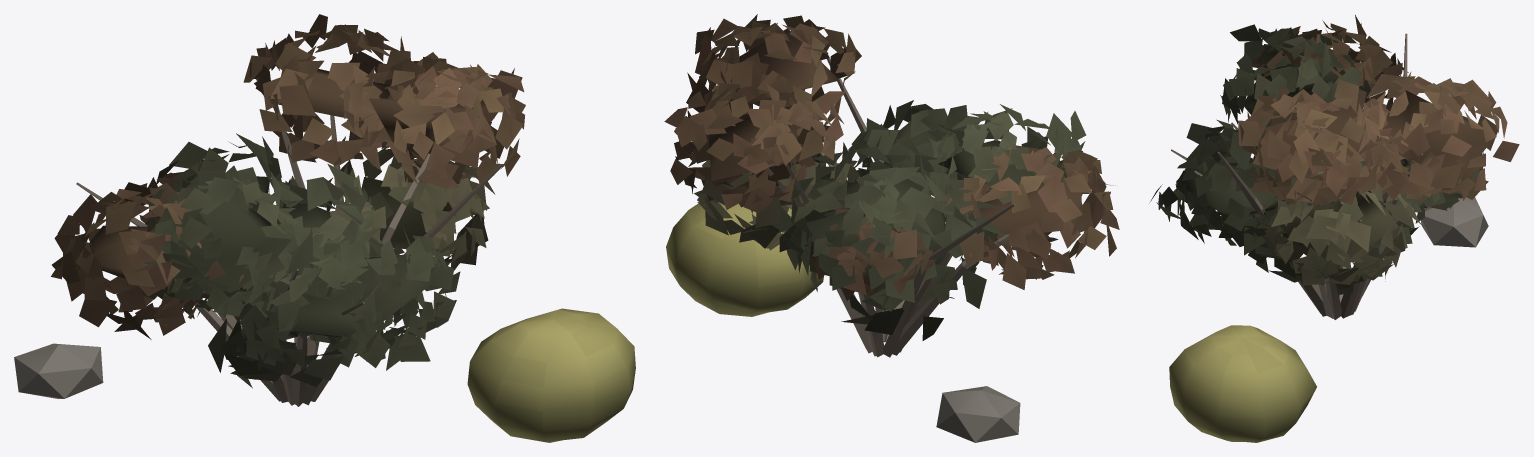
File: matorral_barda_b.glb
The picture shows the model from 3 angles, left to right: view 1: azimuth 30°, elevation 25°; view 2: azimuth 150°, elevation 25°; view 3: azimuth 270°, elevation 25°; orthographic projection. The views are drawn at different scales.
Parts seen in each view (by area): view 1: MatorralBardaBHojas, MatorralBardaB, MatorralBardaBCopa; view 2: MatorralBardaBHojas, MatorralBardaB, MatorralBardaBCopa; view 3: MatorralBardaBHojas, MatorralBardaB, MatorralBardaBCopa.
Boxes of the visible parts, bbox=[...] form: MatorralBardaBHojas: bbox=[51, 14, 525, 388]; MatorralBardaB: bbox=[14, 103, 635, 442]; MatorralBardaBCopa: bbox=[75, 69, 484, 339]; MatorralBardaBHojas: bbox=[664, 14, 1119, 340]; MatorralBardaB: bbox=[666, 58, 1020, 442]; MatorralBardaBCopa: bbox=[708, 28, 1082, 283]; MatorralBardaBHojas: bbox=[1150, 15, 1519, 294]; MatorralBardaB: bbox=[1169, 33, 1488, 442]; MatorralBardaBCopa: bbox=[1177, 48, 1493, 266].
Bounding box in the file's own units: 2.69 × 1.74 × 1.92.
